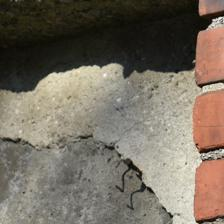Crack: (2, 68, 172, 153)
